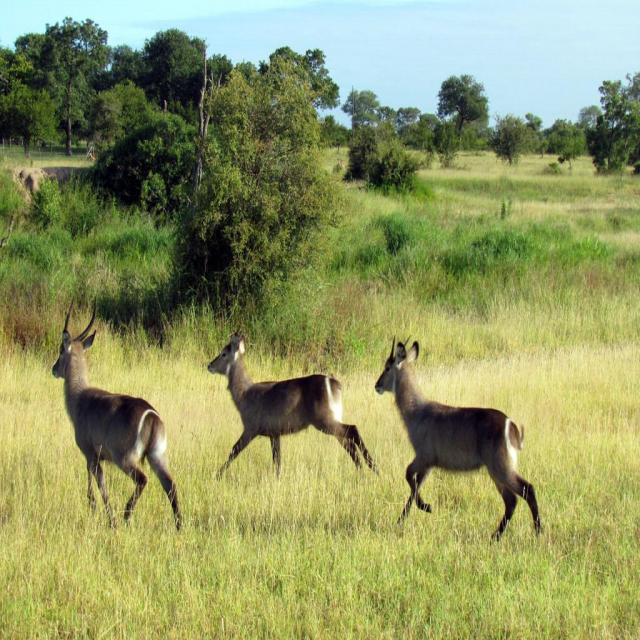Deer: (375, 333, 542, 535), (55, 302, 180, 540), (207, 321, 377, 484)
